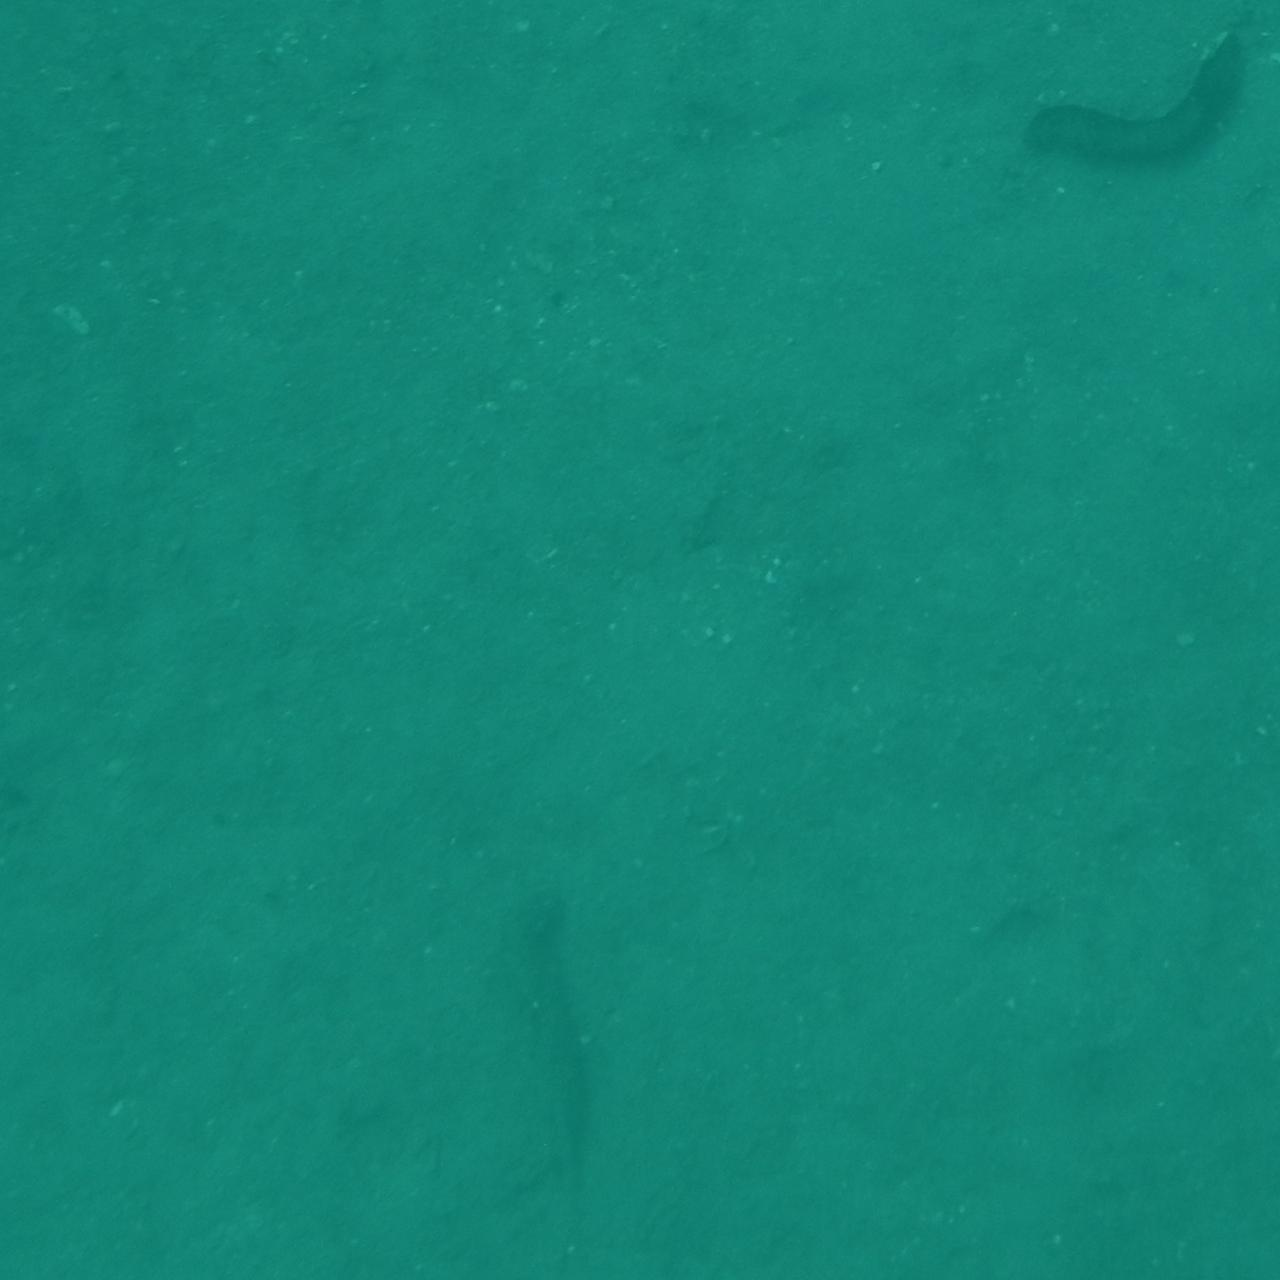Holothuria tubulosa: (421, 883, 595, 1244), (1016, 30, 1266, 181), (0, 604, 175, 779), (0, 320, 98, 599), (570, 0, 806, 84), (1162, 942, 1280, 1103), (1194, 328, 1280, 549), (0, 347, 66, 598), (1207, 199, 1280, 425), (177, 1201, 384, 1280), (0, 958, 137, 1068), (1131, 1186, 1280, 1280), (1171, 0, 1280, 120), (839, 1189, 971, 1280), (1205, 690, 1280, 840), (0, 0, 68, 165), (0, 0, 73, 111), (0, 0, 116, 68), (1160, 1227, 1280, 1280)
